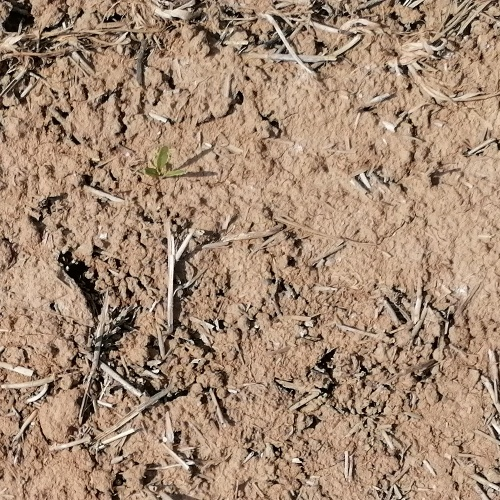beet: (140, 146, 188, 179)
